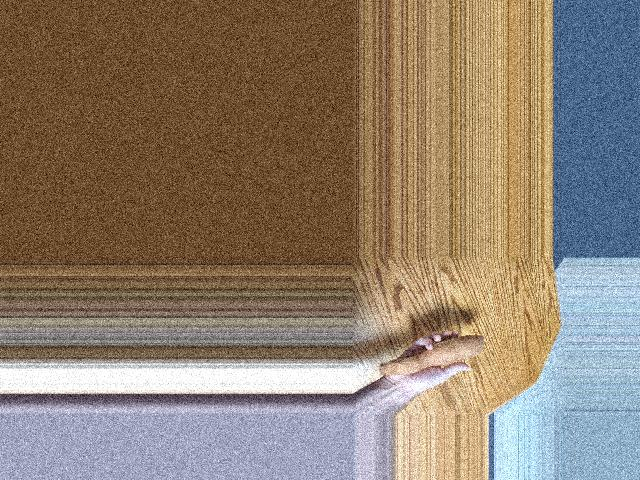sweet_potato: (368, 331, 485, 375)
